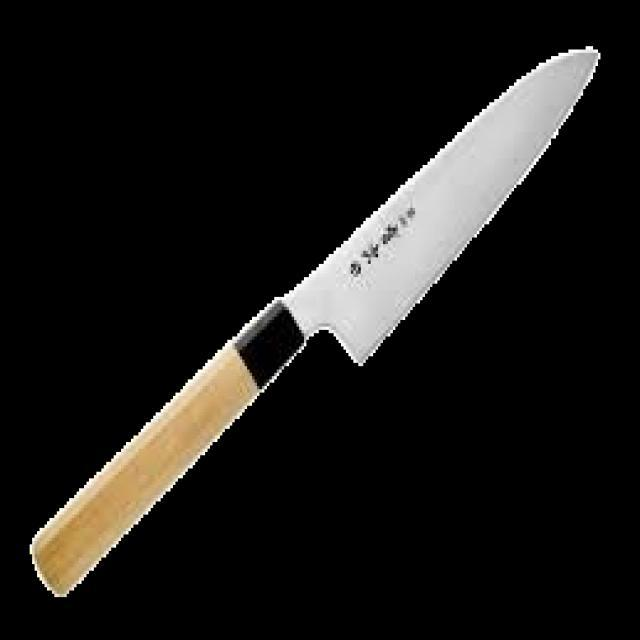knife: (25, 52, 599, 603)
